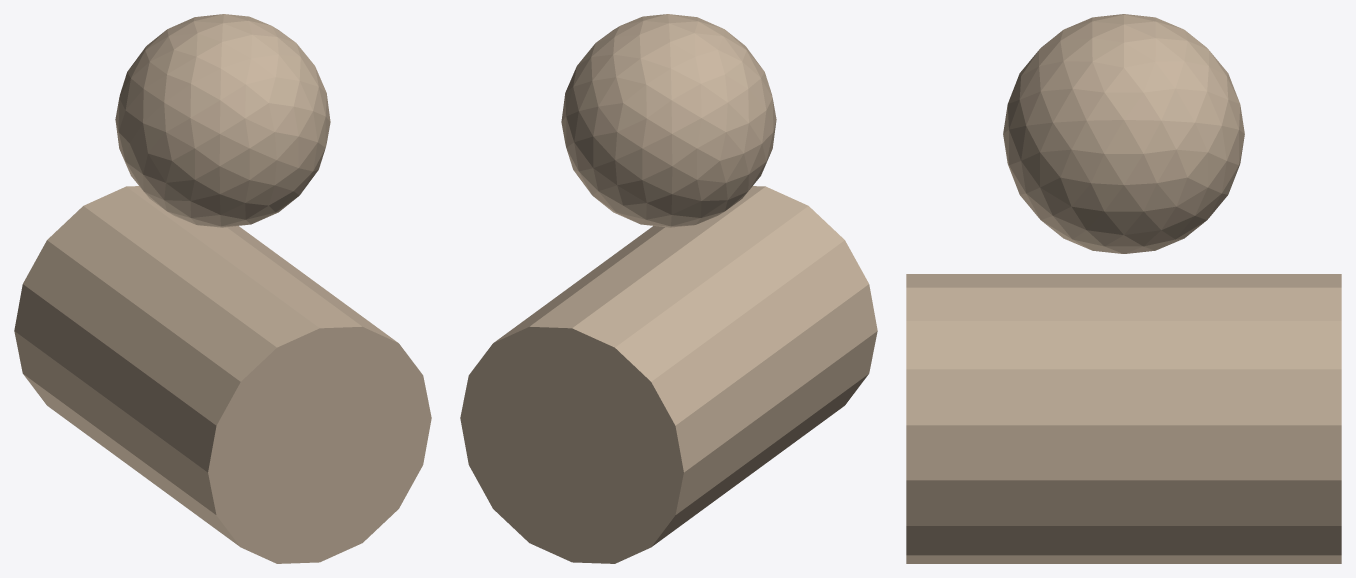
File: sample_character.glb
3 views of the same model, side by side, from view 1: azimuth 30°, elevation 25°; view 2: azimuth 150°, elevation 25°; view 3: azimuth 270°, elevation 25° (orthographic). The views are drawn at different scales.
Parts seen in each view (by area): view 1: geometry_0; view 2: geometry_0; view 3: geometry_0.
Boxes of the visible parts, x1,y1,x2,y2 form: geometry_0: (14, 14, 431, 563); geometry_0: (460, 14, 877, 563); geometry_0: (906, 14, 1341, 563).
Size of the model in its own units: 0.6 by 1.2 by 0.9.
